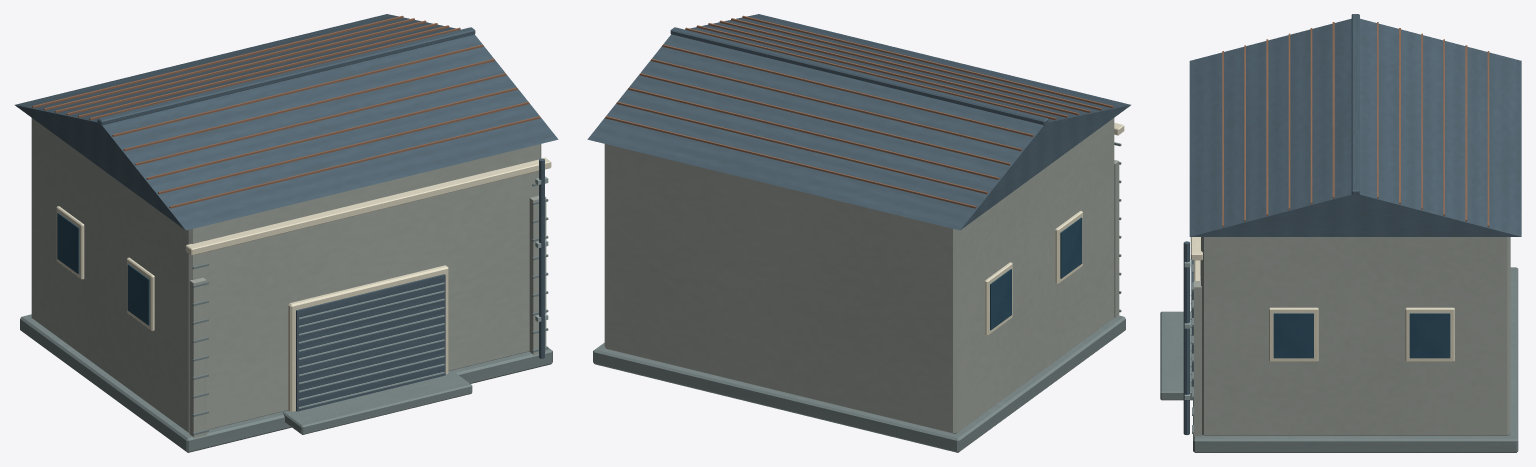
Rendered from warehouse-intact.glb.
3 renders of one model, left to right at view 1: azimuth 30°, elevation 25°; view 2: azimuth 150°, elevation 25°; view 3: azimuth 270°, elevation 25°, orthographic. The views are drawn at different scales.
Parts seen in each view (by area): view 1: warehouse-intact; view 2: warehouse-intact; view 3: warehouse-intact.
Boxes of the visible parts, bbox=[...] form: warehouse-intact: bbox=[15, 14, 558, 452]; warehouse-intact: bbox=[587, 14, 1130, 452]; warehouse-intact: bbox=[1160, 14, 1521, 452].
Size of the model in its own units: 7.44 by 5.2 by 6.43.
2 materials, 2 textured.
